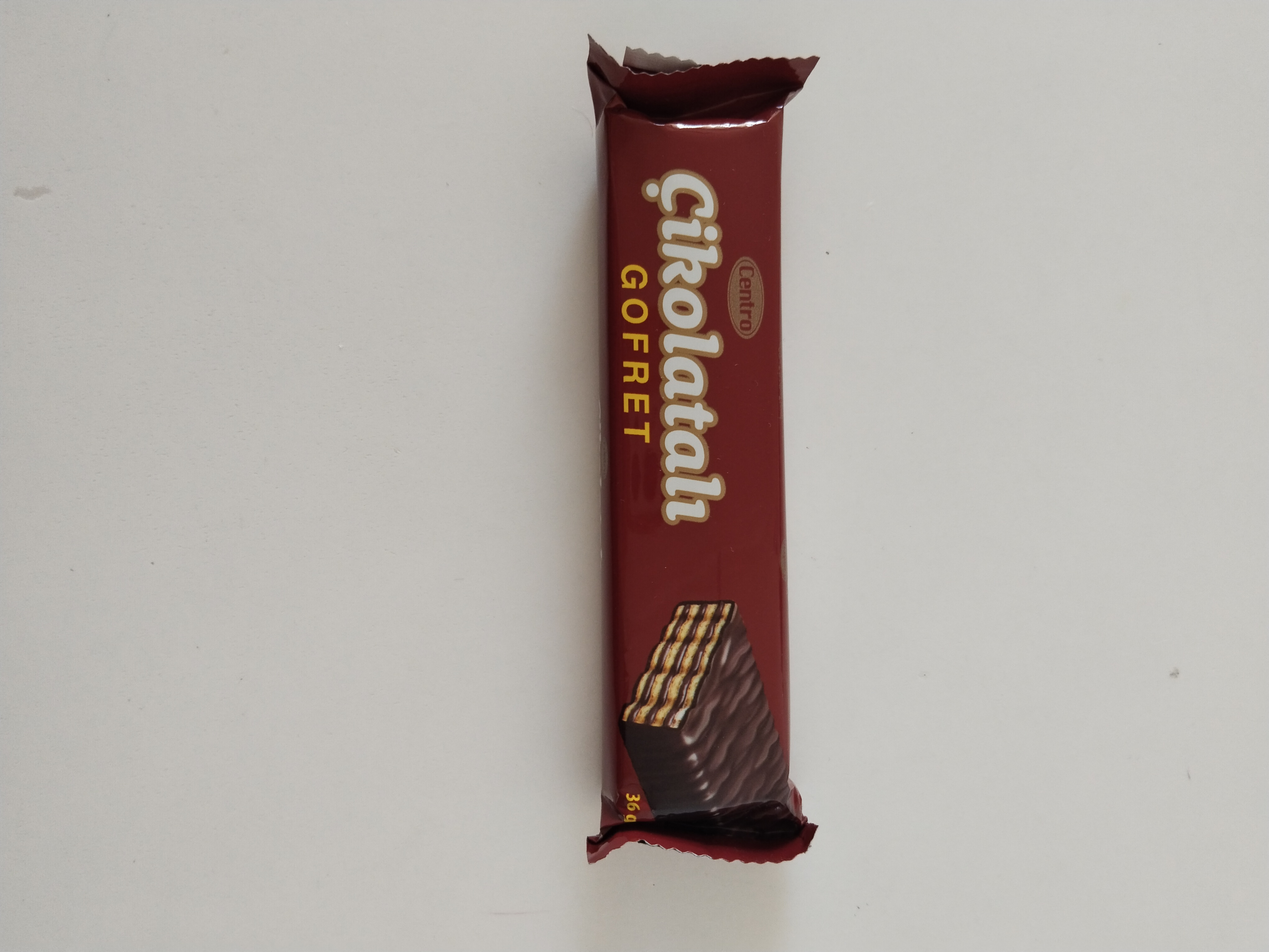centro_gofret: (587, 42, 817, 861)
